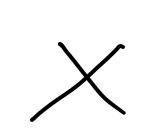mult: (30, 42, 129, 122)
